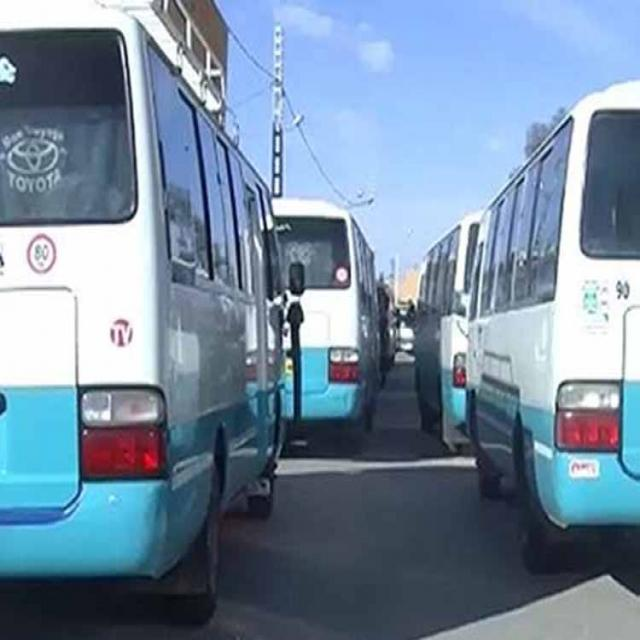bus: (13, 14, 306, 596), (447, 79, 640, 559), (269, 193, 411, 499), (410, 208, 508, 464)
